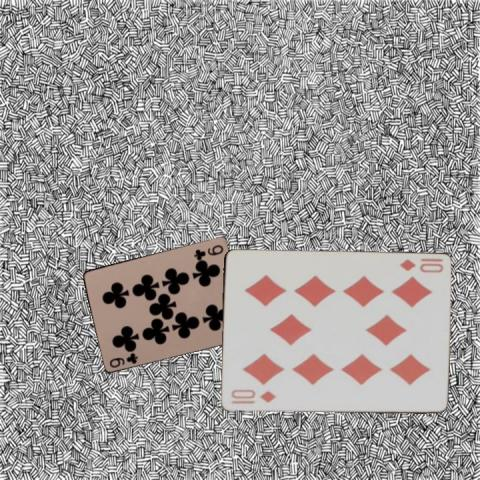10d: (228, 386, 277, 404), (396, 256, 445, 274)
9c: (191, 241, 225, 260), (107, 349, 139, 369)
